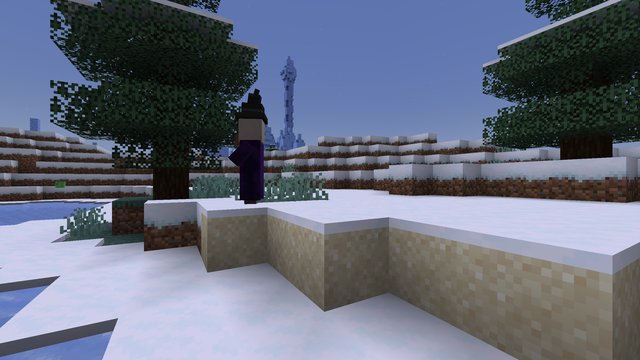slimes: (54, 181, 65, 187)
sorcieres: (234, 113, 269, 211)
